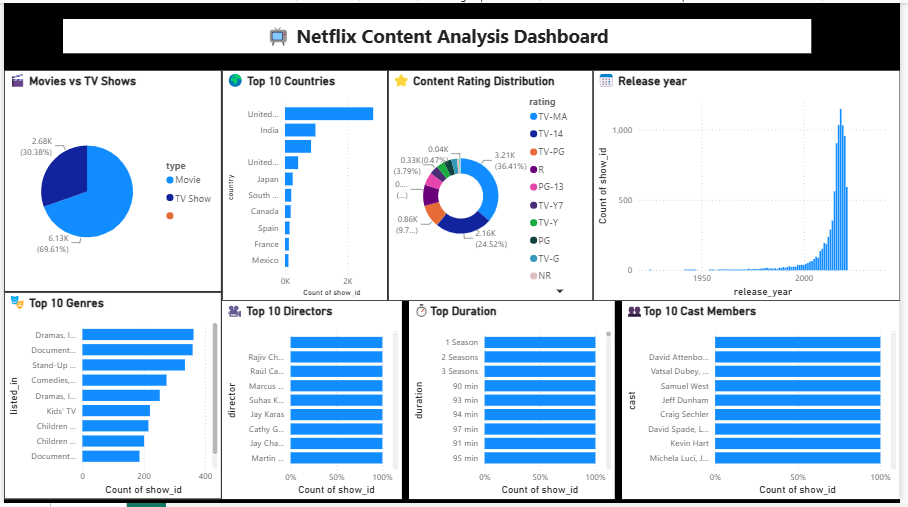

The page's visual inventory and layout, read from the dashboard file:
{"tool":"powerbi","page":{"name":"Page 1","canvas":[1280,720],"ordinal":0},"visuals":[{"type":"pieChart","title":"🎬 Movies vs TV Shows","fields":{"Category":["netflix_titles.type"],"Y":["CountNonNull(netflix_titles.type)"]},"box":[11.5,100.8,299.5,319.7],"z":0},{"type":"clusteredBarChart","title":"🌍 Top 10 Countries","fields":{"Category":["netflix_titles.country"],"Y":["CountNonNull(netflix_titles.show_id)"]},"box":[326.9,116.6,220.3,262.1],"z":1000},{"type":"clusteredBarChart","title":"🎭 Top 10 Genres","fields":{"Y":["CountNonNull(netflix_titles.show_id)"],"Category":["netflix_titles.listed_in"]},"box":[11.5,432,288,282.2],"z":2000},{"type":"columnChart","title":"📅 Release year","fields":{"Category":["netflix_titles.release_year"],"Y":["CountNonNull(netflix_titles.show_id)"]},"box":[852.5,100.8,417.6,331.2],"z":3000},{"type":"donutChart","title":"⭐ Content Rating Distribution","fields":{"Category":["netflix_titles.rating"],"Y":["CountNonNull(netflix_titles.show_id)"]},"box":[561.6,100.8,280.8,277.9],"z":4000},{"type":"textbox","box":[83.5,37.4,1035.4,43.2],"z":5000},{"type":"hundredPercentStackedBarChart","title":"🎥 Top 10 Directors","fields":{"Category":["netflix_titles.director"],"Y":["CountNonNull(netflix_titles.show_id)"]},"box":[326.9,394.6,257.8,319.7],"z":6000},{"type":"hundredPercentStackedBarChart","title":"⏱️Top Duration","fields":{"Category":["netflix_titles.duration"],"Y":["CountNonNull(netflix_titles.show_id)"]},"box":[601.9,394.6,240.5,319.7],"z":7000},{"type":"hundredPercentStackedBarChart","title":"👥Top 10 Cast Members","fields":{"Category":["netflix_titles.cast"],"Y":["CountNonNull(netflix_titles.show_id)"]},"box":[898.6,449.3,335.5,257.8],"z":8000}]}

Visuals, with their boxes in screenshot pixels (x1, y1, x2, y2), scaled from the page's 1280x720 canvas onto the 908x507 screenshot:
"🎬 Movies vs TV Shows" pieChart: {"left": 8, "top": 71, "right": 221, "bottom": 296}
"🌍 Top 10 Countries" clusteredBarChart: {"left": 232, "top": 82, "right": 388, "bottom": 267}
"🎭 Top 10 Genres" clusteredBarChart: {"left": 8, "top": 304, "right": 212, "bottom": 503}
"📅 Release year" columnChart: {"left": 605, "top": 71, "right": 901, "bottom": 304}
"⭐ Content Rating Distribution" donutChart: {"left": 398, "top": 71, "right": 598, "bottom": 267}
textbox: {"left": 59, "top": 26, "right": 794, "bottom": 57}
"🎥 Top 10 Directors" hundredPercentStackedBarChart: {"left": 232, "top": 278, "right": 415, "bottom": 503}
"⏱️Top Duration" hundredPercentStackedBarChart: {"left": 427, "top": 278, "right": 598, "bottom": 503}
"👥Top 10 Cast Members" hundredPercentStackedBarChart: {"left": 637, "top": 316, "right": 875, "bottom": 498}
